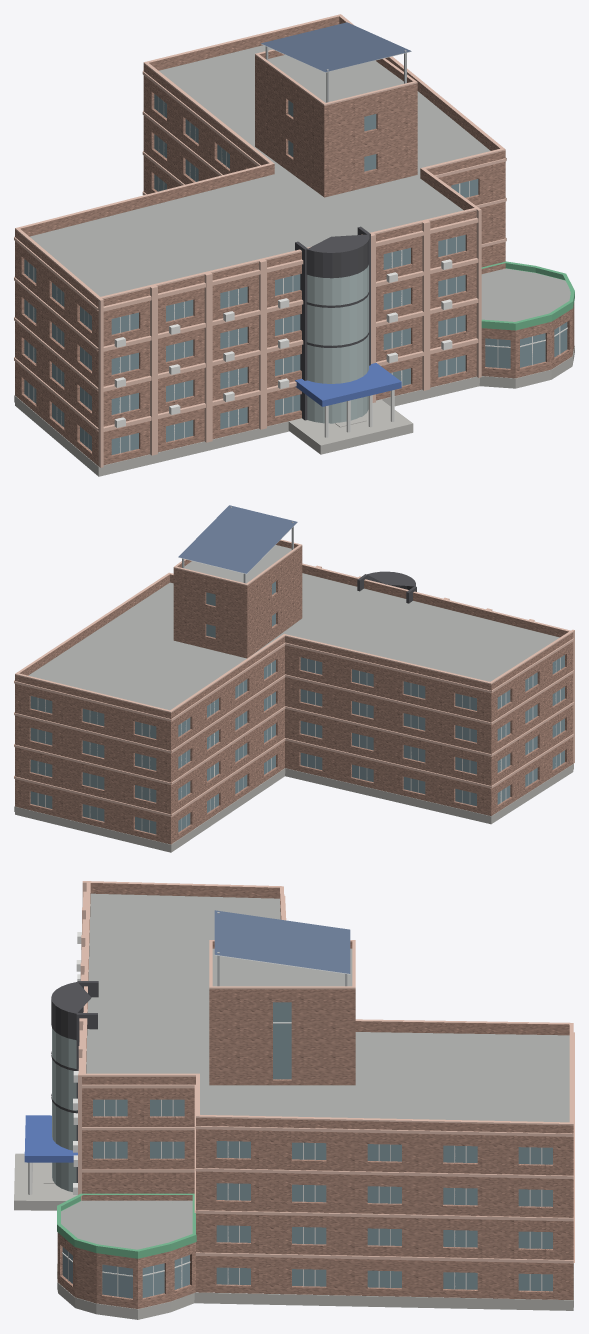
3 views of the same model, one above another, from view 1: azimuth 30°, elevation 25°; view 2: azimuth 150°, elevation 25°; view 3: azimuth 270°, elevation 25° (orthographic). The views are drawn at different scales.
Parts seen in each view (by area): view 1: D6 salmon brick, D6 grey roof, D6 light brick pilasters and bands, D6 blue grey glass, D6 granite plinth and paving, D6 curved stair core glass, D6 black core frame, D6 dark blue solar panels, D6 white window frames, D6 blue entrance canopy, D6 white outdoor ac units, D6 green roof rim (+1 smaller); view 2: D6 salmon brick, D6 grey roof, D6 blue grey glass, D6 light brick pilasters and bands, D6 granite plinth and paving, D6 dark blue solar panels, D6 white window frames, D6 black core frame; view 3: D6 salmon brick, D6 grey roof, D6 blue grey glass, D6 light brick pilasters and bands, D6 granite plinth and paving, D6 dark blue solar panels, D6 curved stair core glass, D6 black core frame, D6 green roof rim, D6 white window frames, D6 blue entrance canopy.
Part boxes in pixels (x1,y1,x2,y2): D6 salmon brick: (15,16,574,465); D6 grey roof: (30,45,570,321); D6 light brick pilasters and bands: (14,14,506,467); D6 blue grey glass: (24,94,567,454); D6 granite plinth and paving: (14,345,574,476); D6 curved stair core glass: (307,265,368,423); D6 black core frame: (295,226,370,420); D6 dark blue solar panels: (261,22,411,72); D6 white window frames: (28,97,567,453); D6 blue entrance canopy: (295,363,401,406); D6 white outdoor ac units: (114,259,452,427); D6 green roof rim: (481,261,574,330); D6 salmon brick: (15,540,573,844); D6 grey roof: (28,545,559,710); D6 blue grey glass: (30,581,564,834); D6 light brick pilasters and bands: (14,539,574,816); D6 granite plinth and paving: (14,763,573,852); D6 dark blue solar panels: (178,505,297,573); D6 white window frames: (37,657,560,833); D6 black core frame: (357,571,416,603); D6 salmon brick: (57,883,573,1308); D6 grey roof: (61,893,569,1249); D6 blue grey glass: (62,1002,552,1298); D6 light brick pilasters and bands: (78,881,574,1263); D6 granite plinth and paving: (14,1153,573,1319); D6 dark blue solar panels: (214,910,350,973); D6 curved stair core glass: (52,1028,76,1191); D6 black core frame: (51,981,98,1182); D6 green roof rim: (57,1193,196,1258); D6 white window frames: (62,1022,542,1296); D6 blue entrance canopy: (24,1115,77,1162).
Size of the model in its own units: 44.99 by 25.3 by 42.17.
Materials: 14 (1 with a texture image).
